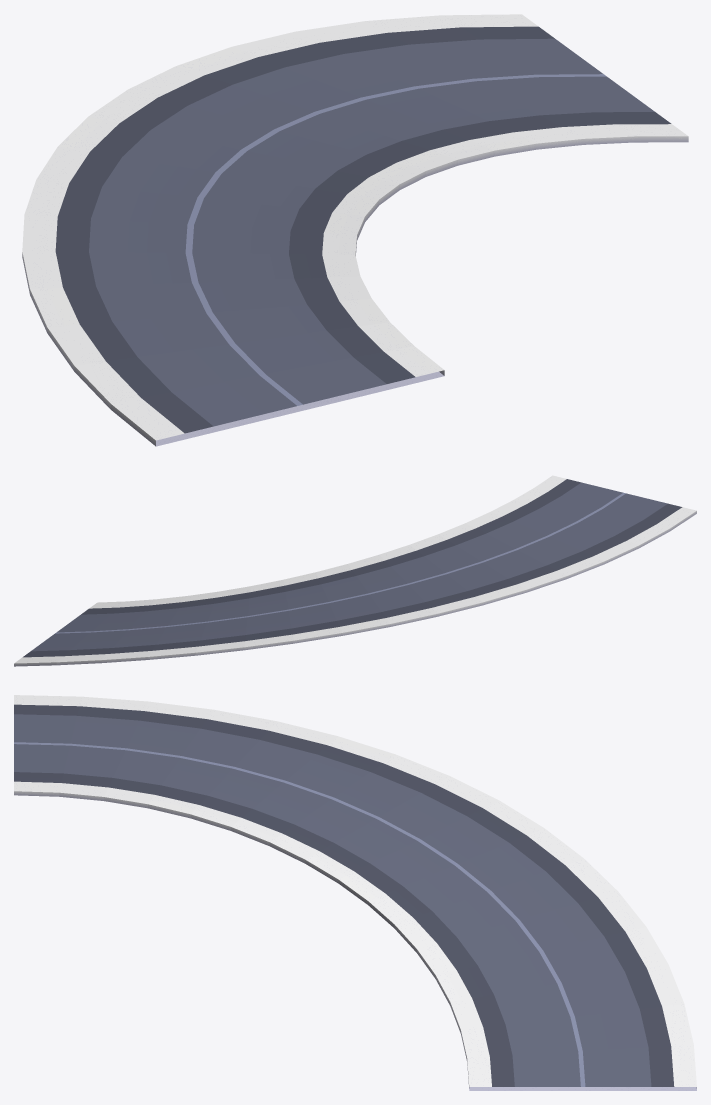
File: road-Turn-Flat-BiSlopeDown-Down2-Right-Size3.glb
The picture shows the model from 3 angles, top to bottom: view 1: azimuth 30°, elevation 25°; view 2: azimuth 150°, elevation 25°; view 3: azimuth 270°, elevation 25°; orthographic projection. The views are drawn at different scales.
Visible parts, largest first — view 1: road-Turn-Flat-BiSlopeDown-Down2-Right-Size3; view 2: road-Turn-Flat-BiSlopeDown-Down2-Right-Size3; view 3: road-Turn-Flat-BiSlopeDown-Down2-Right-Size3.
Boxes of the visible parts, x1,y1,x2,y2 form: road-Turn-Flat-BiSlopeDown-Down2-Right-Size3: [22, 14, 688, 446]; road-Turn-Flat-BiSlopeDown-Down2-Right-Size3: [14, 475, 696, 666]; road-Turn-Flat-BiSlopeDown-Down2-Right-Size3: [14, 695, 696, 1090].
Bounding box in the file's own units: 3 × 0.52 × 3.
Materials: 1 (1 with a texture image).
